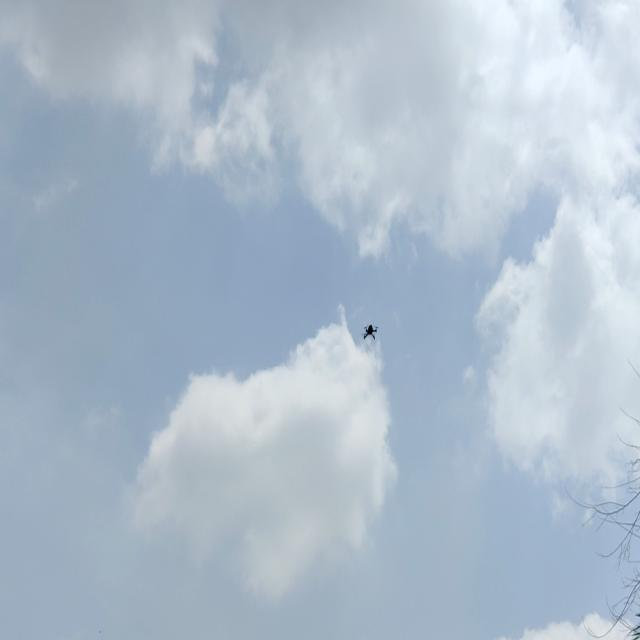drone: (358, 320, 382, 349)
